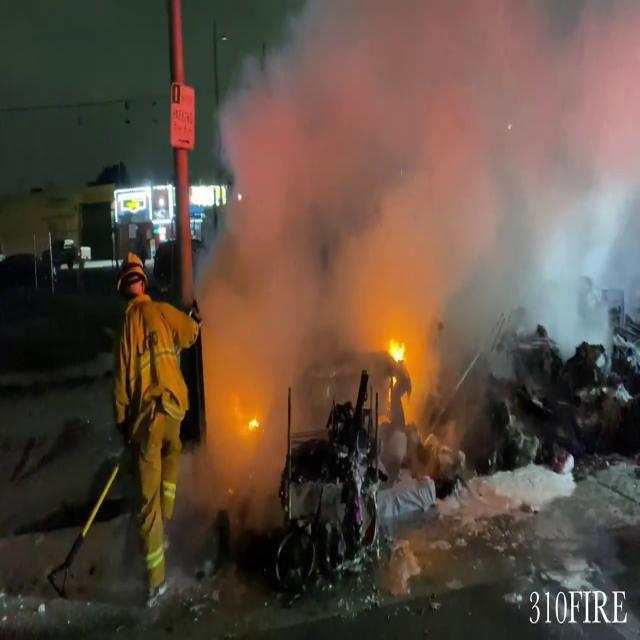Fire: (379, 325, 417, 403)
Smoke: (193, 0, 638, 418)
